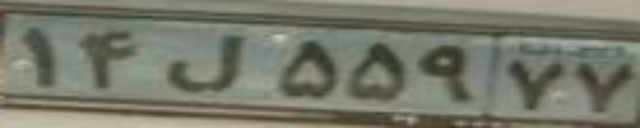1: (21, 27, 54, 85)
4: (80, 28, 138, 88)
5: (339, 42, 408, 100), (273, 39, 338, 98)
7: (569, 61, 637, 111), (505, 58, 563, 110)
9: (416, 42, 474, 101)
lam: (163, 34, 241, 93)
